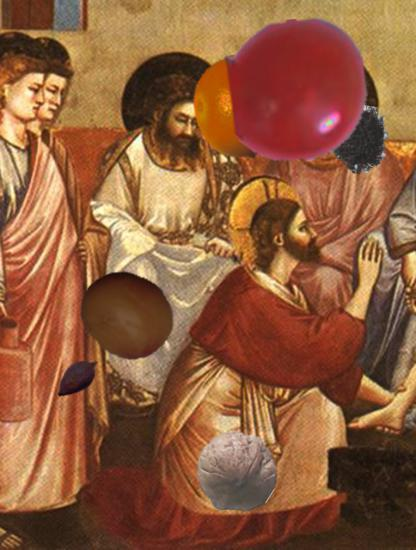Apricot: (79, 266, 176, 363)
Grapefruit: (190, 54, 295, 159)
Rambutan: (327, 105, 396, 174)
Redcurrant: (227, 19, 370, 162)
Salak: (52, 352, 104, 404)
Walnut: (194, 430, 279, 515)
